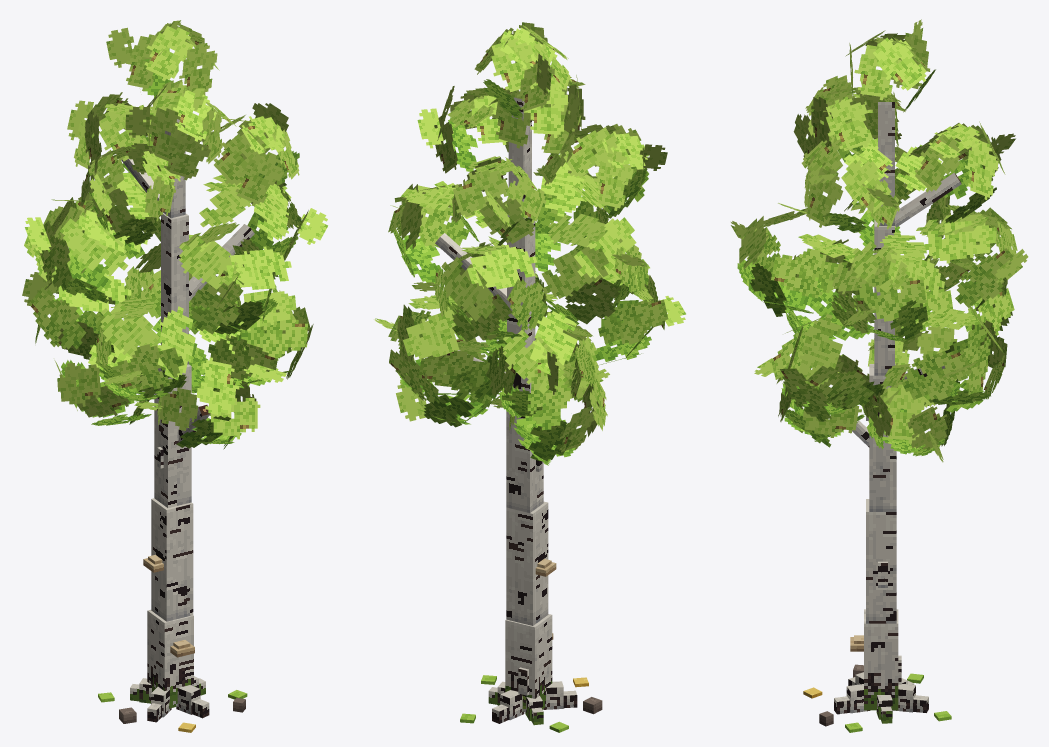
The model's file is birch_tree.glb.
The picture shows the model from 3 angles, left to right: view 1: azimuth 30°, elevation 25°; view 2: azimuth 150°, elevation 25°; view 3: azimuth 270°, elevation 25°; orthographic projection.
Visible parts, largest first — view 1: birch_tree; view 2: birch_tree; view 3: birch_tree.
Part boxes in pixels (bbox=[...]): birch_tree: bbox=[22, 20, 327, 732]; birch_tree: bbox=[374, 22, 685, 732]; birch_tree: bbox=[731, 19, 1028, 732].
Size of the model in its own units: 3.04 by 6.89 by 2.85.
Materials: 2 (2 with a texture image).
